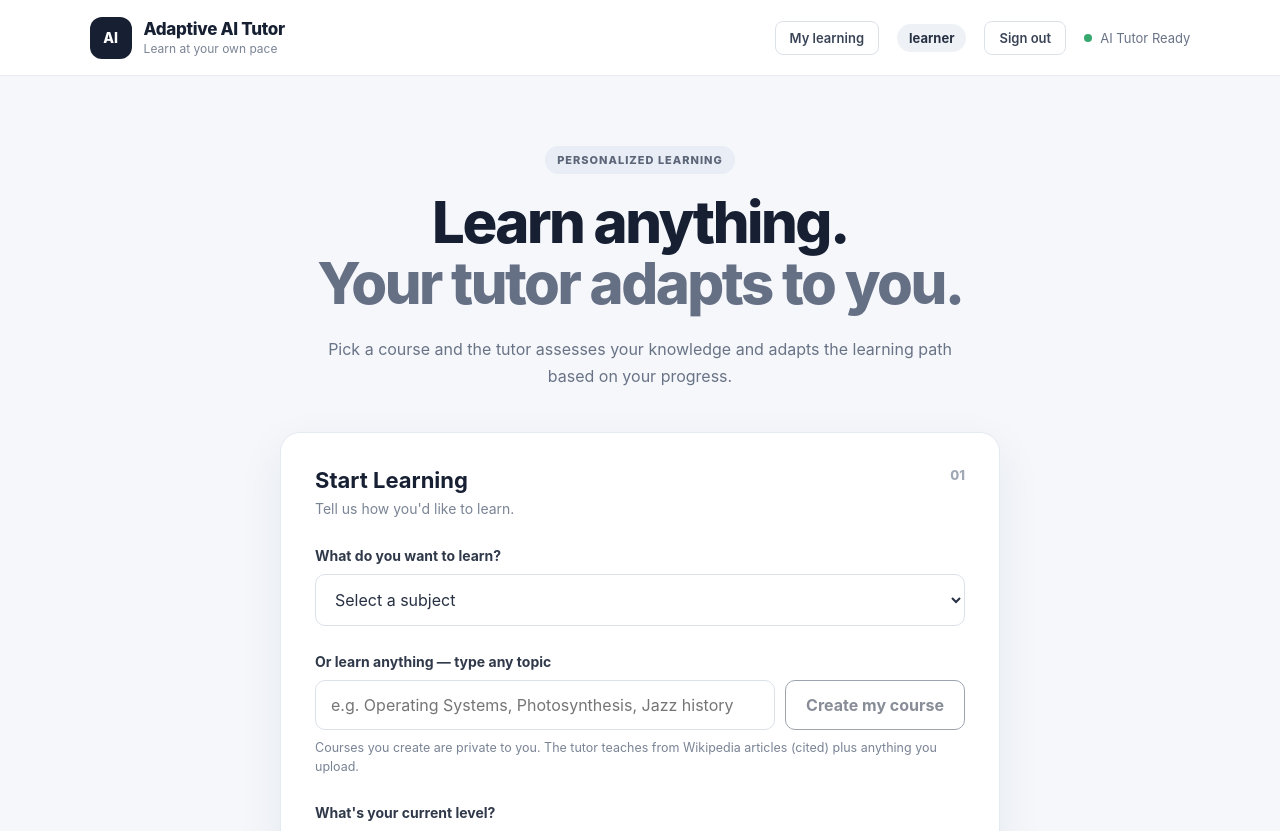
it: App › teaches the prerequisite when the engine asks for it
This screenshot has width=1280, height=831.
Step 1. Select "Computer Networks" in the dropdown labelled "What do you want to learn?" → (640, 600), box [315,574,965,626]
(page scrolled)
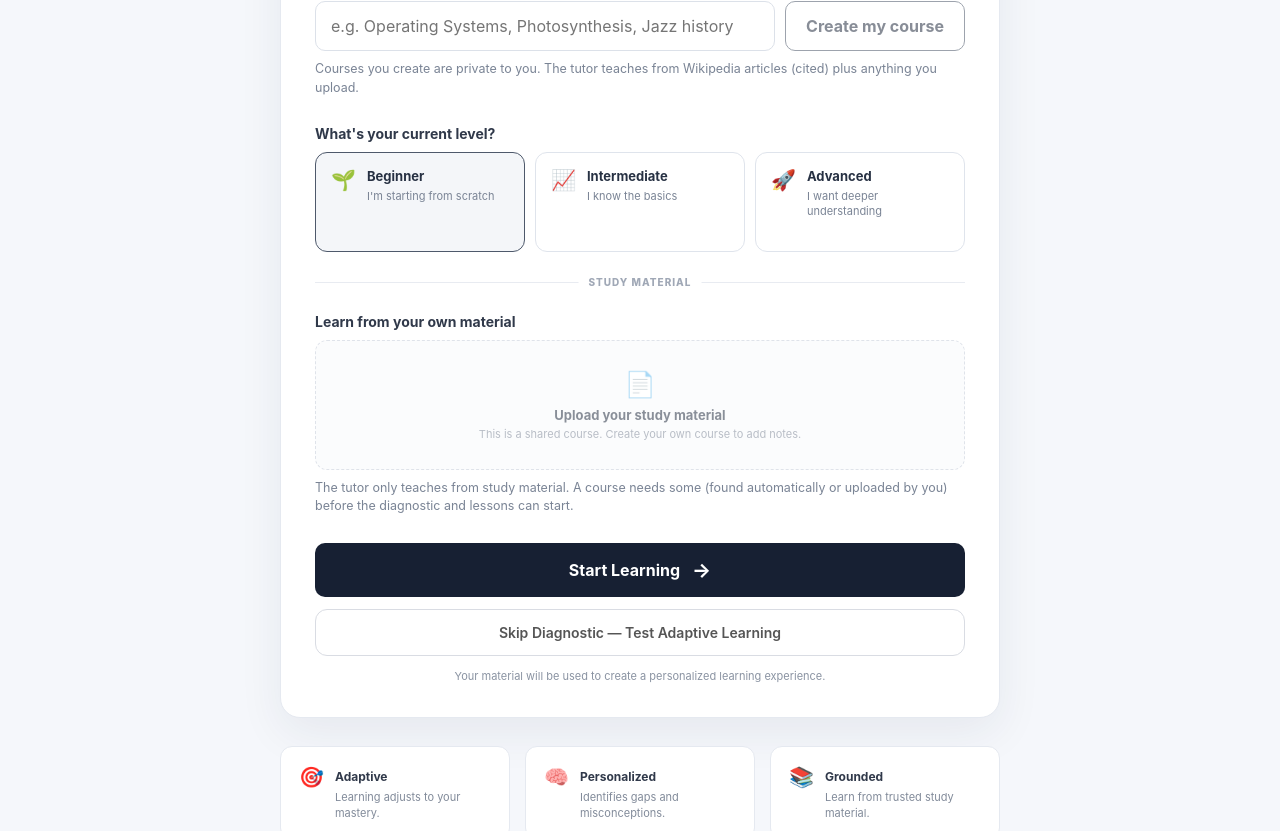
Step 2. Click the button "Skip Diagnostic — Test Adaptive Learning" → (640, 633), box [315,609,965,656]
(page scrolled)
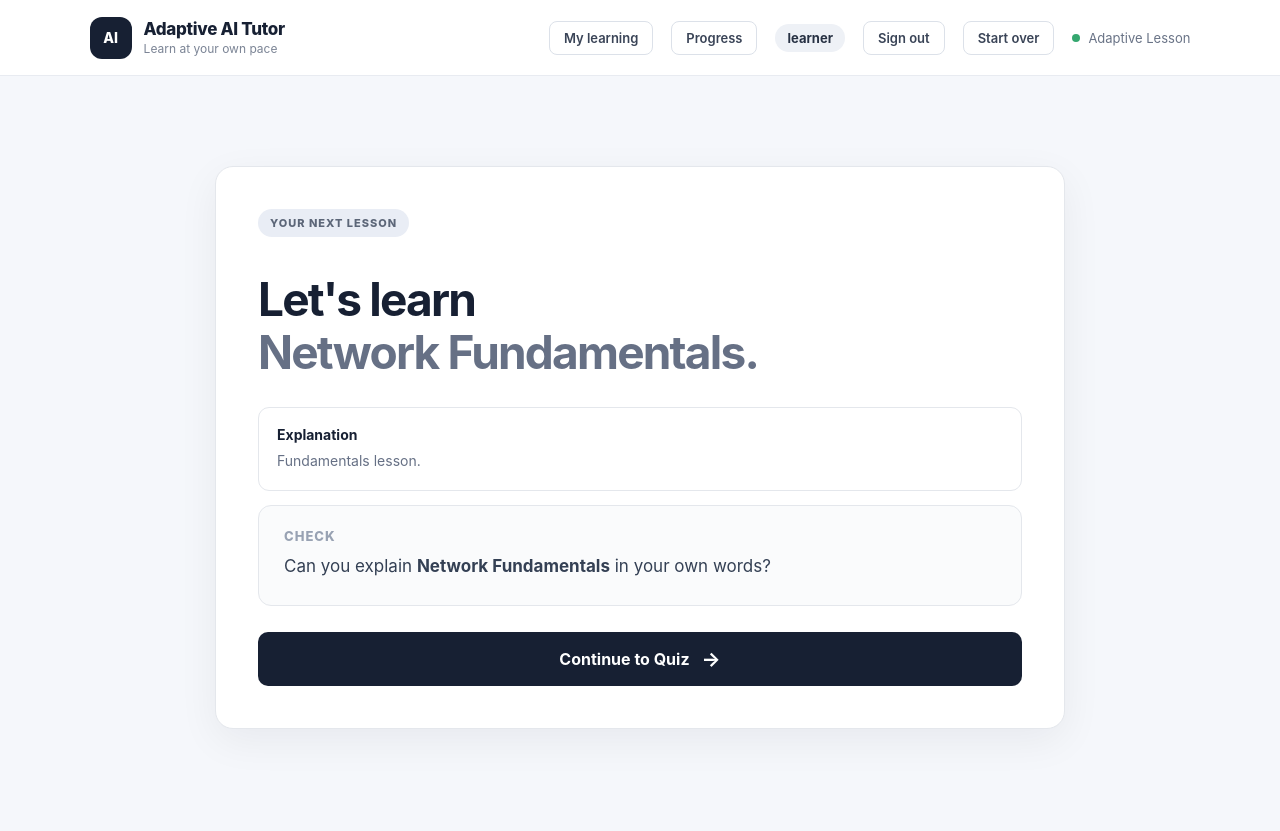
Check: the text "Fundamentals lesson." is shown, box [277,452,421,469]
